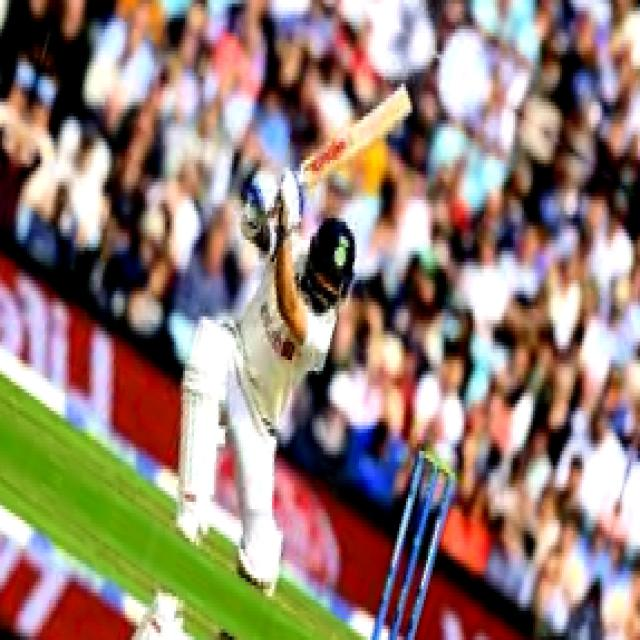bat: (297, 78, 414, 193)
